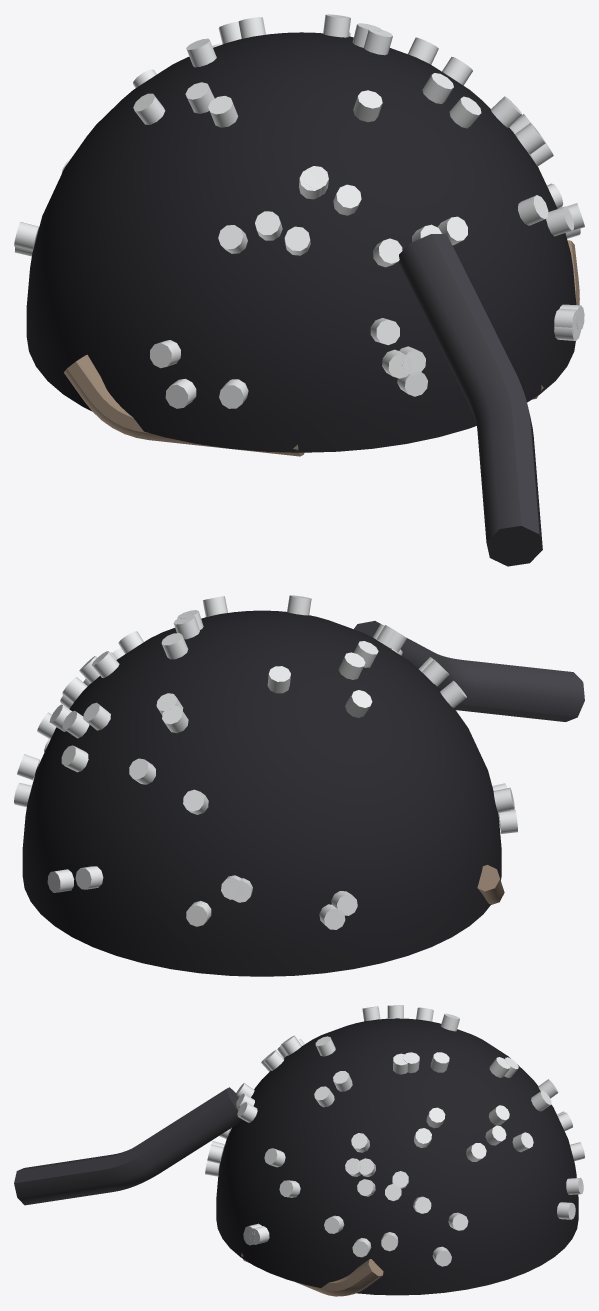
File: Analysis_Helmet.fbx
3 renders of one model, top to bottom at view 1: azimuth 30°, elevation 25°; view 2: azimuth 150°, elevation 25°; view 3: azimuth 270°, elevation 25°, orthographic. The views are drawn at different scales.
Visible parts, largest first — view 1: Analysis_Helmet; view 2: Analysis_Helmet; view 3: Analysis_Helmet.
Boxes of the visible parts, x1,y1,x2,y2 form: Analysis_Helmet: (14, 14, 584, 566); Analysis_Helmet: (14, 595, 584, 976); Analysis_Helmet: (14, 1005, 584, 1296).
Bounding box in the file's own units: 0.3626 × 0.2043 × 0.5356.
